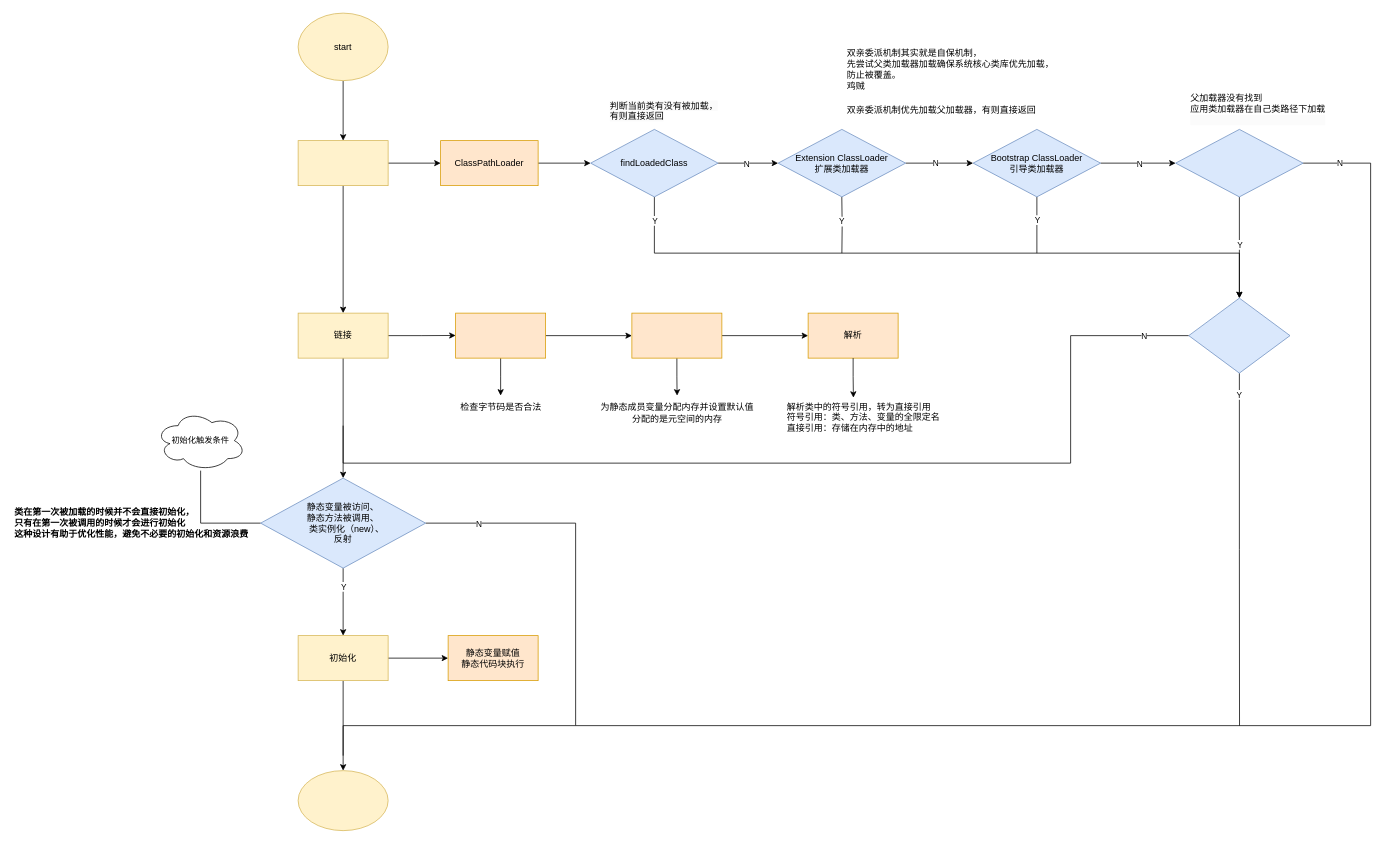
The diagram is 1385 pixels wide and 844 high, and some of its shapes have lost their labels. Each missing label, with the box of its shape:
AppClassLoader findClass 自定义类加载器: (1175, 129, 1303, 197)
end: (297, 770, 388, 831)
准备: (631, 312, 722, 358)
加载: (297, 140, 388, 186)
是否初始化: (1188, 297, 1290, 373)
验证: (455, 312, 546, 358)
